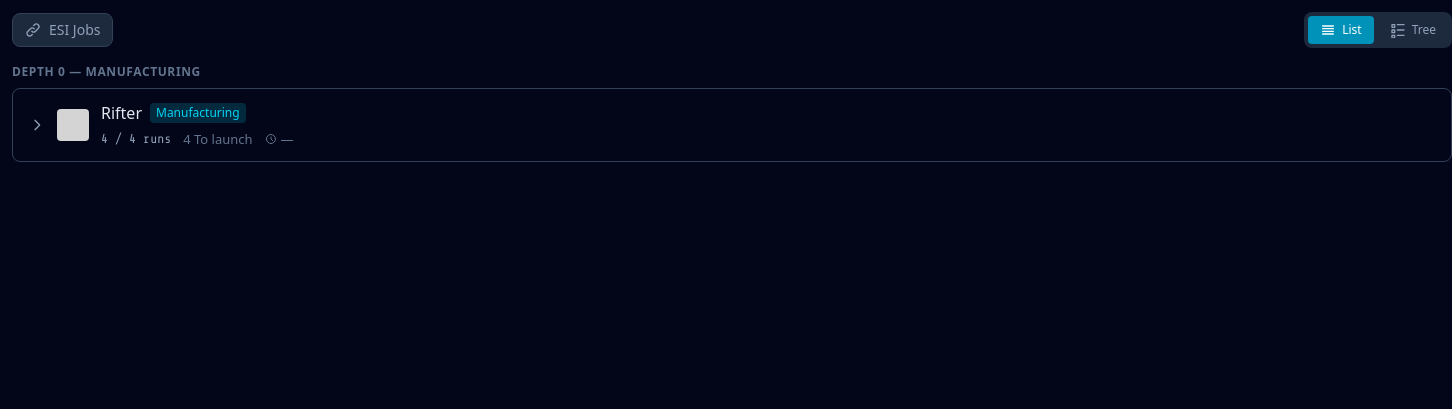
Test case: StepsTab job sync failures › names a character whose jobs are forbidden with the status code and keeps the steps
The width and height of the screenshot is (1452, 409).
Click the button "ESI Jobs" at (63, 30), box [12,13,114,47]
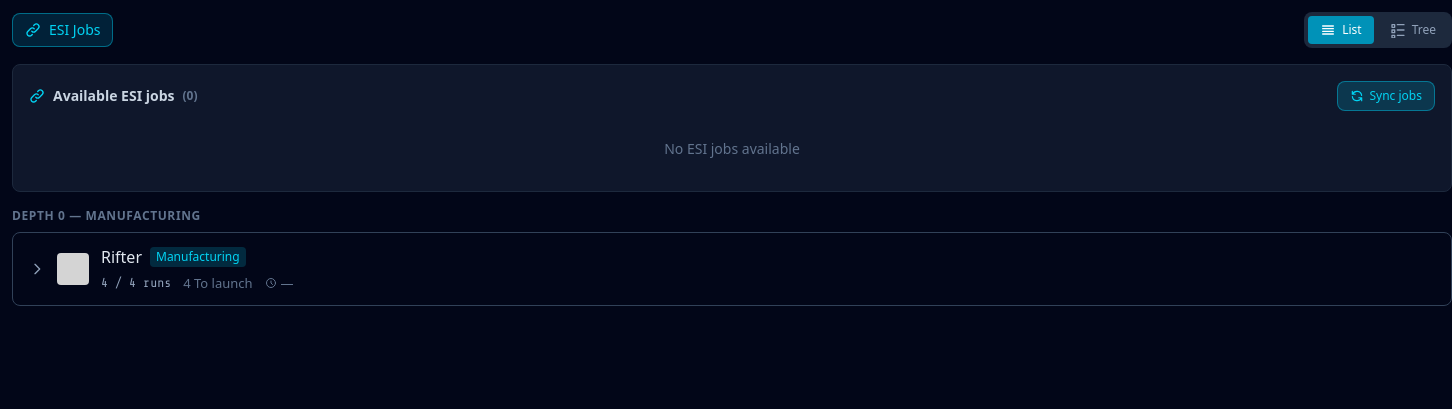
Click the button "Sync jobs" at (1386, 96), box [1336,81,1435,111]
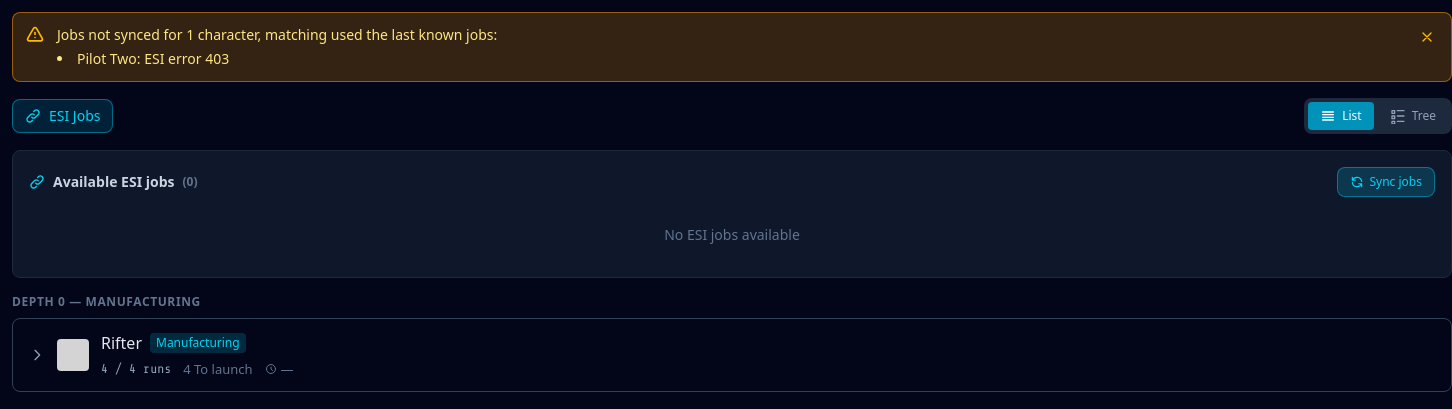
Check: the number of elements with class "step-row" is 1, box [12,318,1451,392]
Check: the number of elements with test id "jobs-sync-failures" is 1, box [12,12,1451,82]
Check: the element with test id "jobs-sync-failures" shows "Jobs not synced for 1 character, matching used the last known jobs:", box [57,25,497,44]
